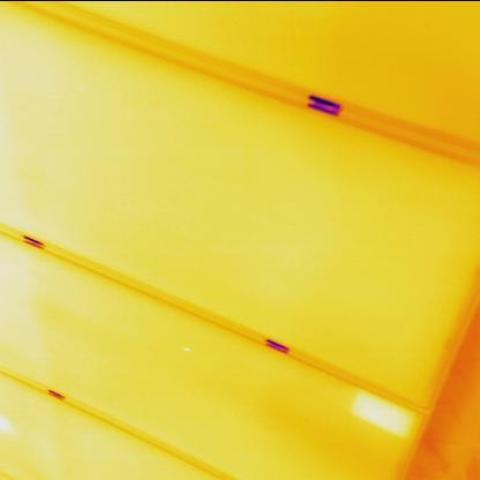fault: (348, 386, 416, 437)
